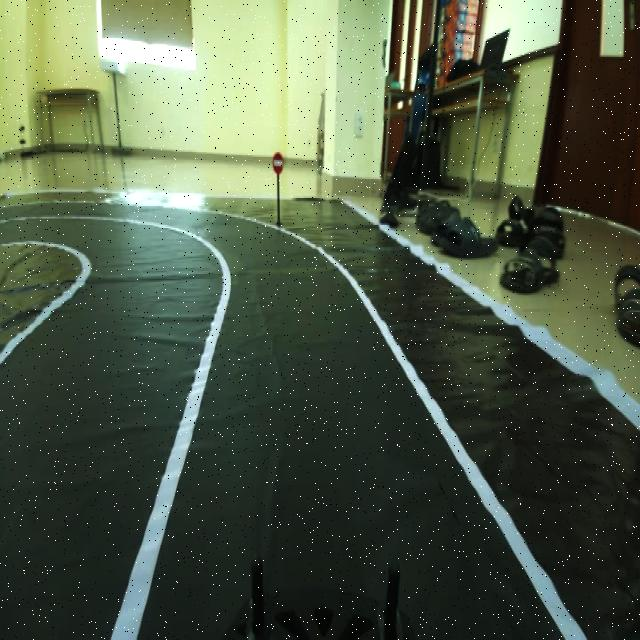no_entry: (269, 142, 289, 183)
